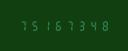eight: (101, 20, 112, 31)
five: (29, 20, 40, 31)
four: (89, 20, 100, 31)
one: (41, 20, 52, 31)
seven: (17, 20, 28, 31), (65, 20, 76, 31)
six: (53, 20, 64, 31)
three: (77, 20, 88, 31)
